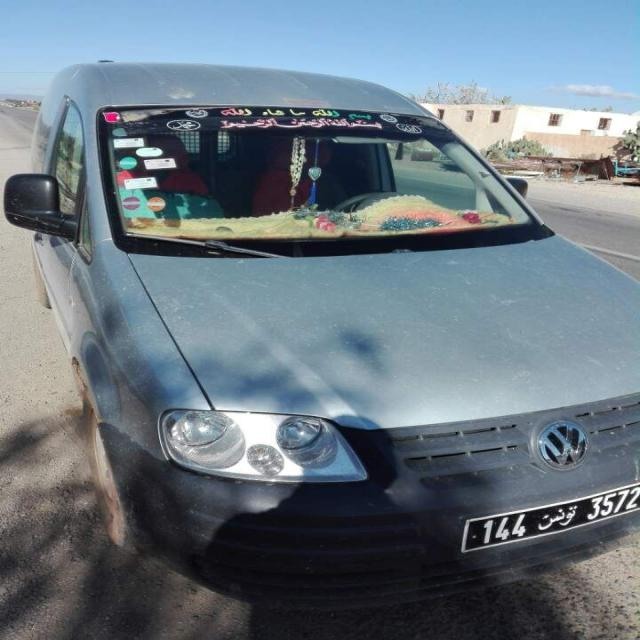LP: (458, 479, 639, 557)
